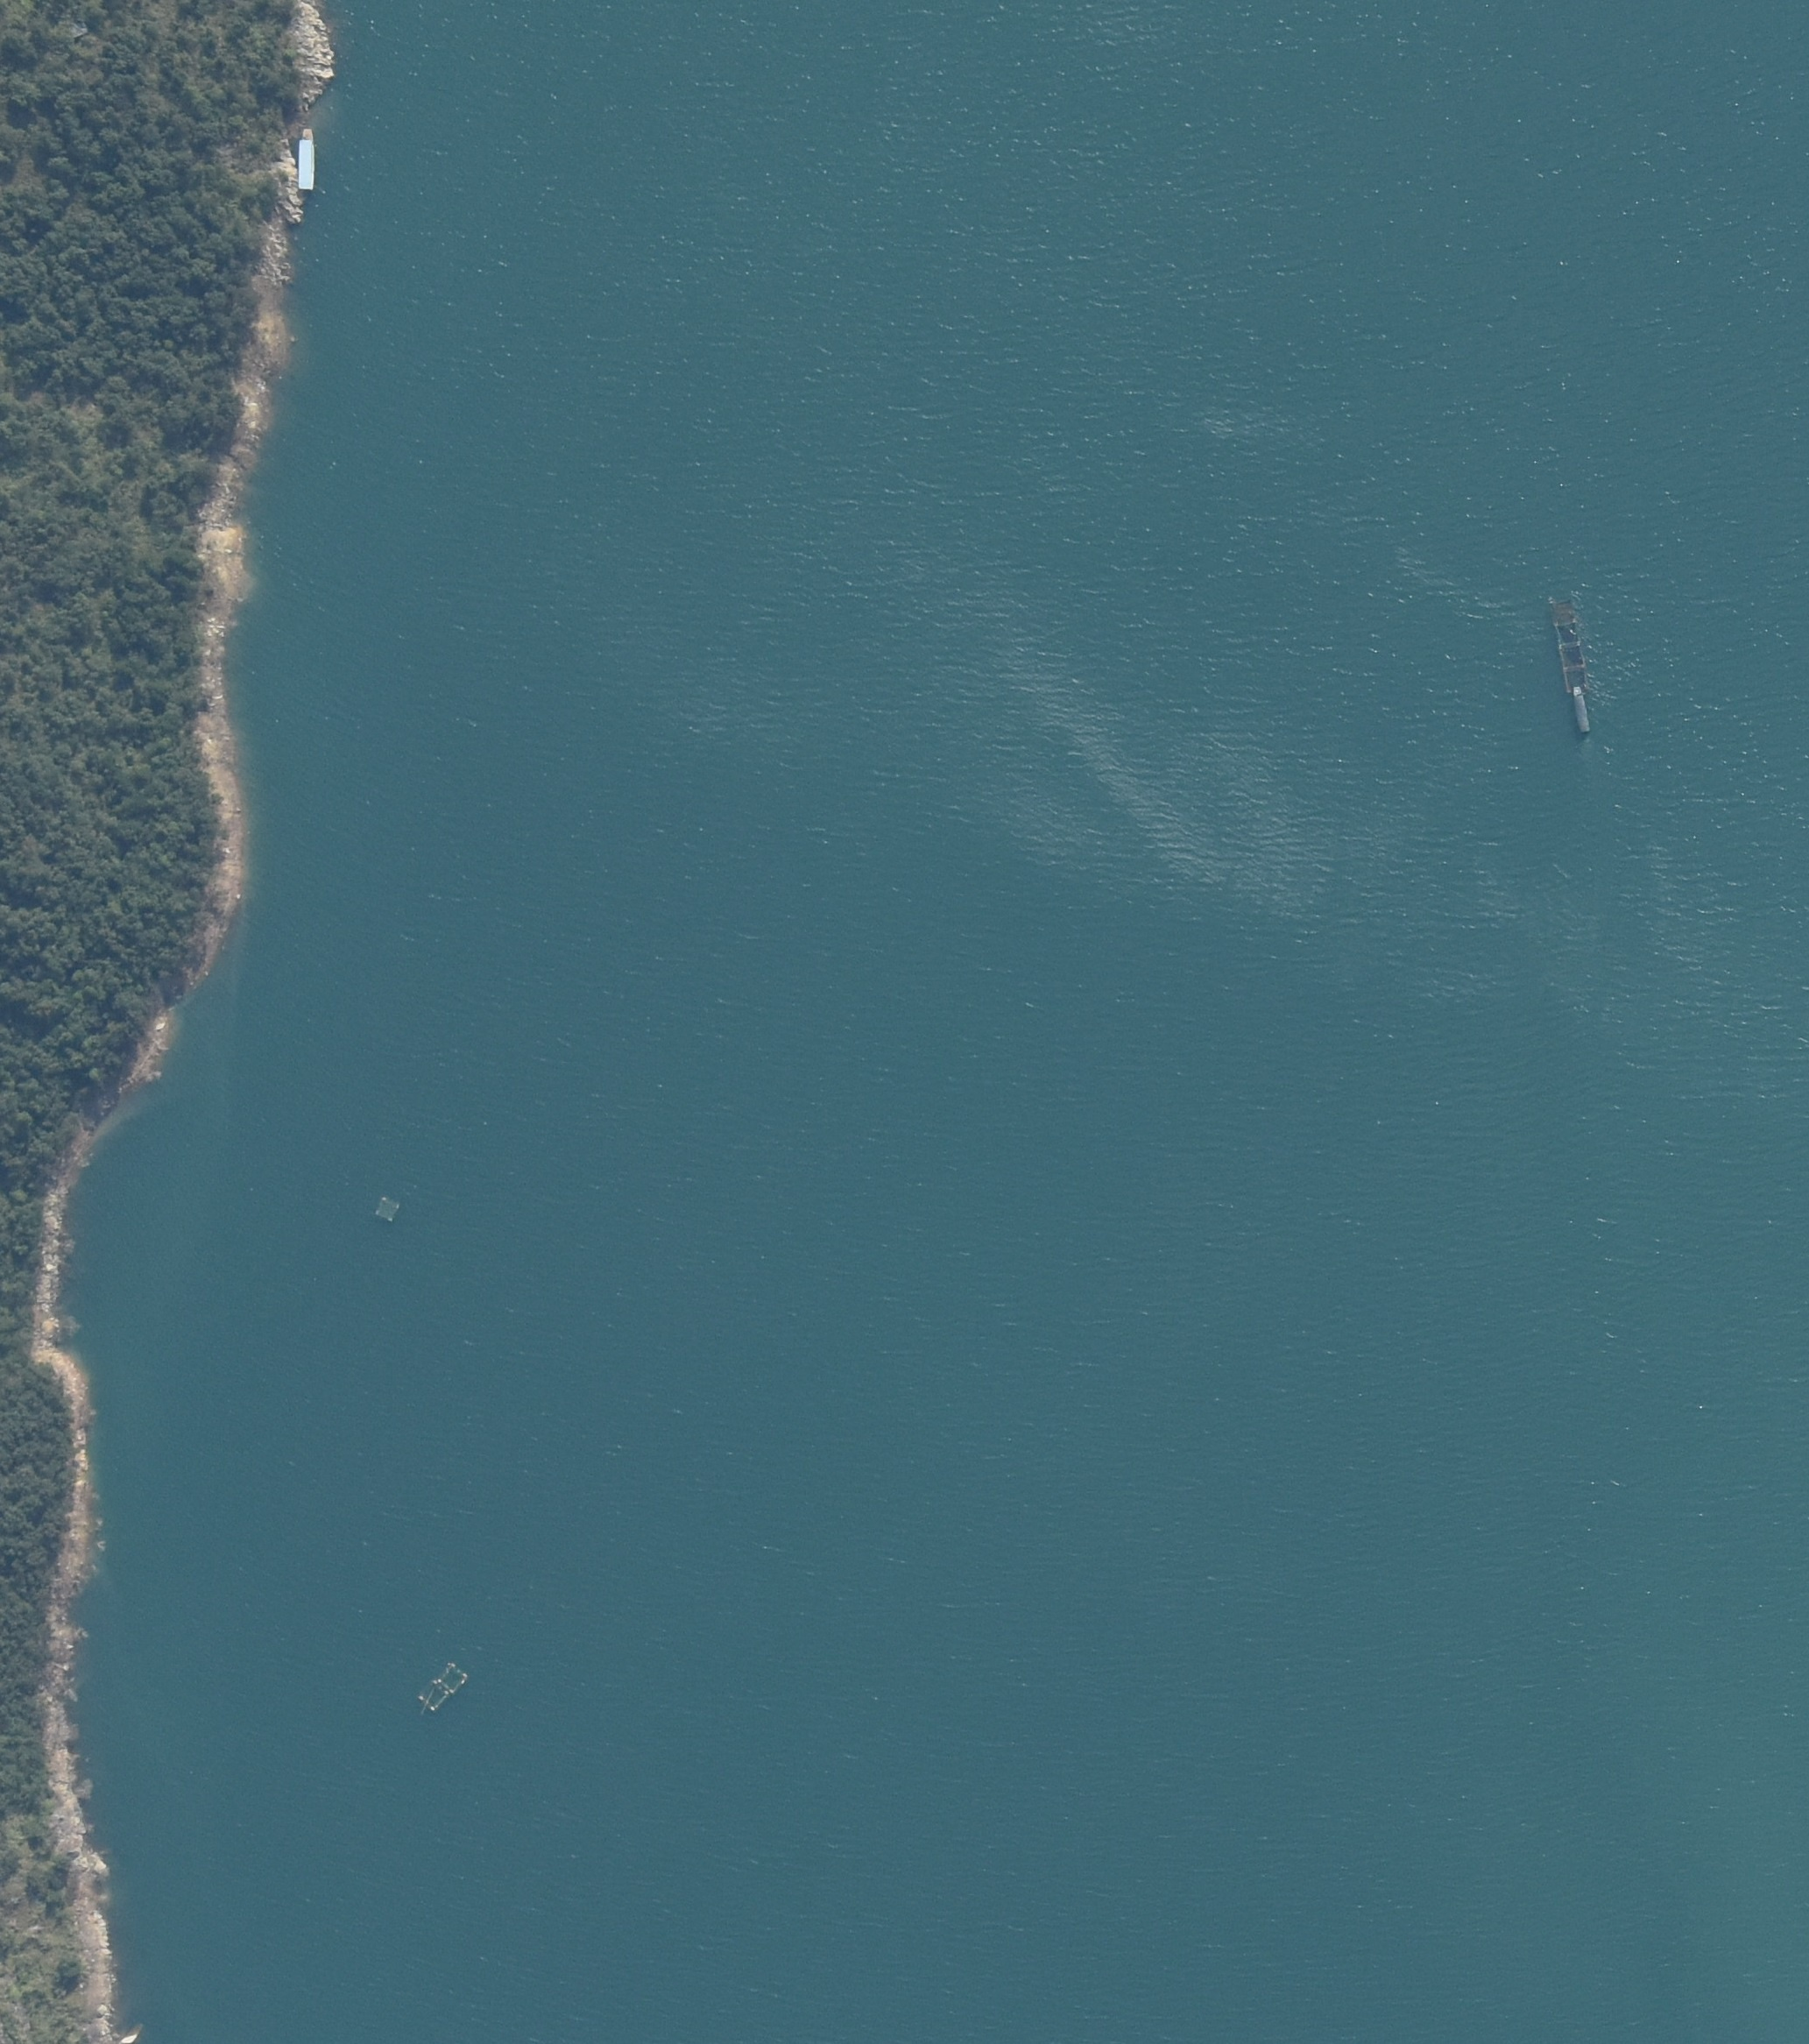cultivation-mesh-cage: (1551, 597, 1593, 690), (414, 1660, 467, 1711), (376, 1196, 399, 1222)
ship: (297, 125, 316, 195), (1570, 685, 1593, 732)
